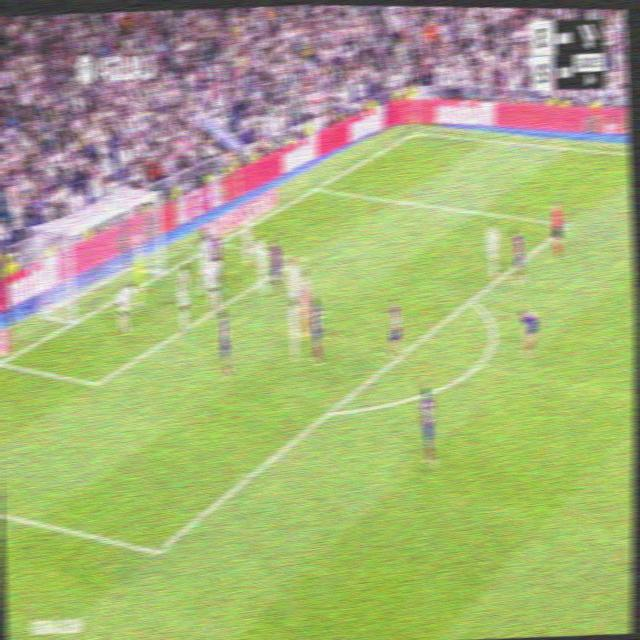bigarea_bottom_inner: (147, 532, 166, 571)
bigarea_top_inner: (563, 215, 572, 233)
bigarea_top_outter: (312, 179, 323, 195)
bottom_arc_area_intersection: (322, 398, 338, 424)
corner: (410, 124, 423, 138)
smallarea_bottom_inner: (90, 371, 103, 396)
smallarea_top_inner: (293, 249, 305, 267)
top_arc_area_intersection: (464, 289, 477, 309)
